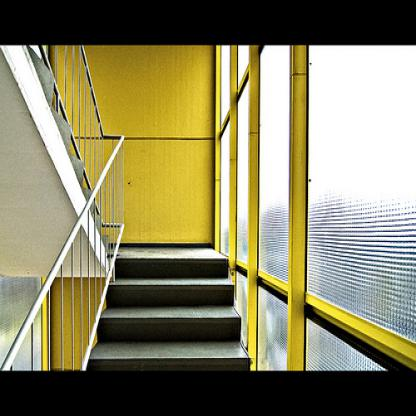stairs: (120, 256, 231, 378)
